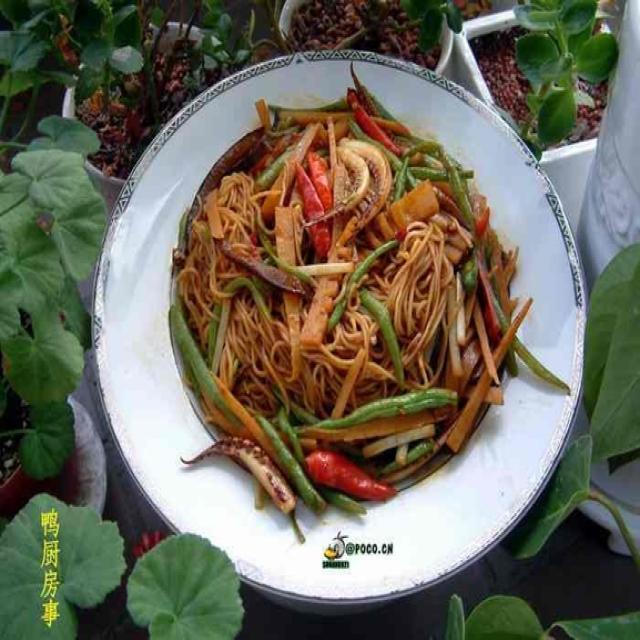面条主食: (50, 44, 596, 602)
